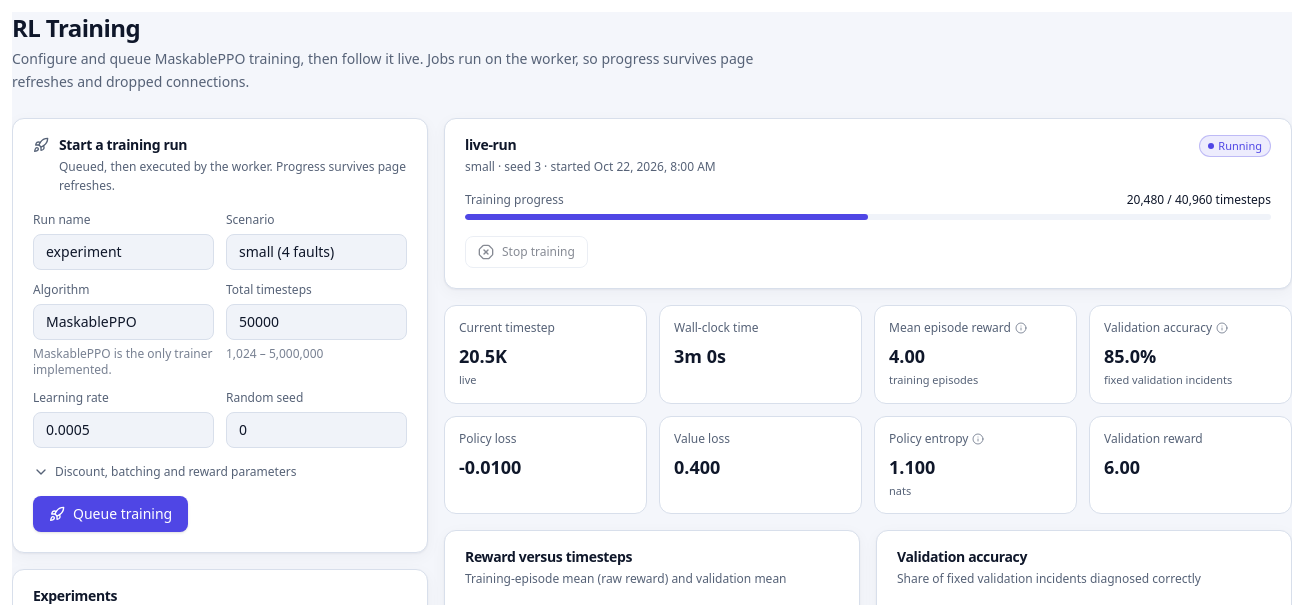
Scenario: Training › tells the user to set the admin key when the server rejects it
Expected: the field labelled "Run name" is shown, top-left (33, 234), bottom-right (214, 270)
Click the button "Queue training" at point(111, 514), box top-left (33, 496), bottom-right (188, 532)
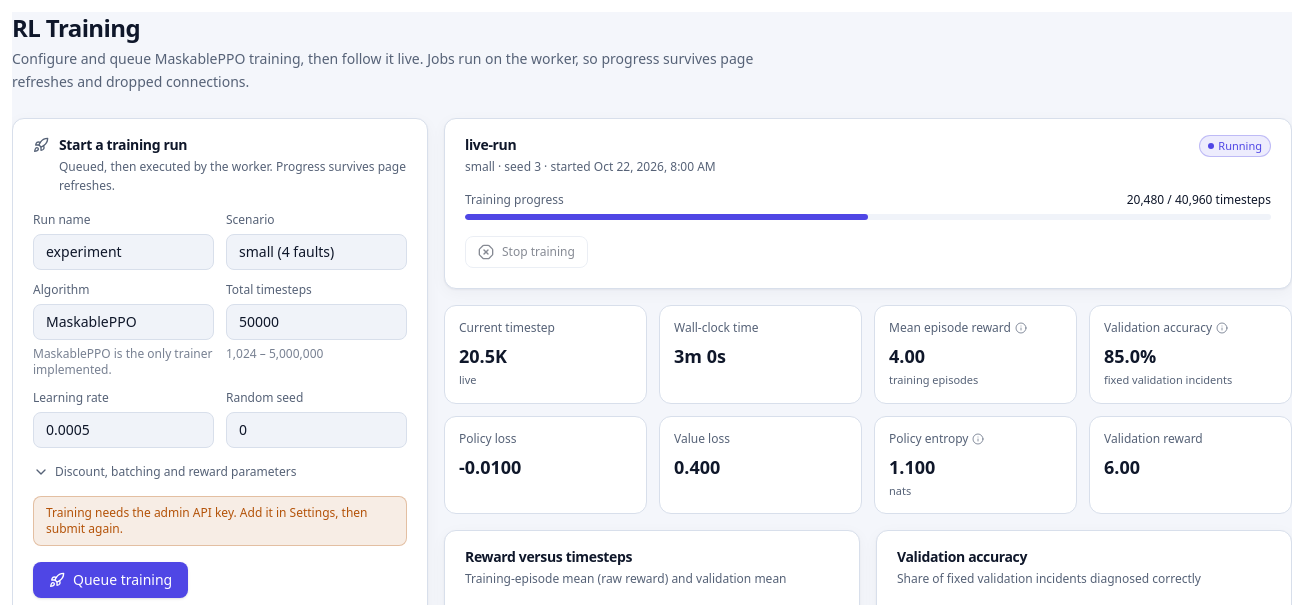
Expected: the text "Training needs the admin API key. Add it in Settings, then submit again." is shown, top-left (33, 496), bottom-right (407, 546)
